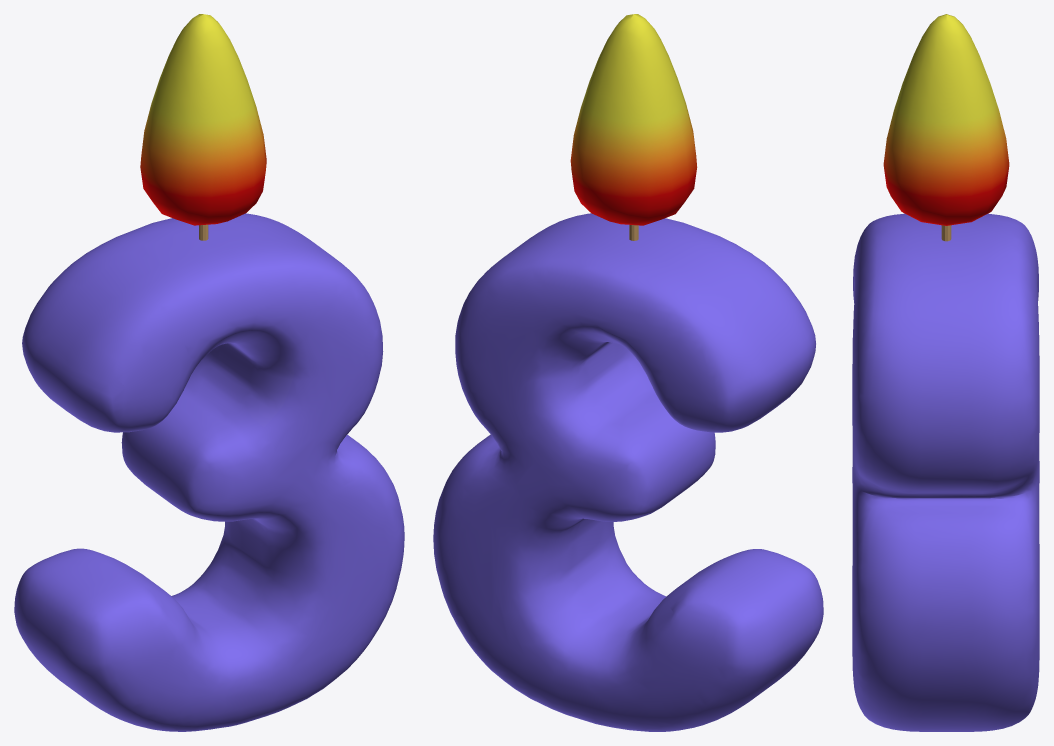
Rendered from candle_3.glb.
The picture shows the model from 3 angles, left to right: view 1: azimuth 30°, elevation 25°; view 2: azimuth 150°, elevation 25°; view 3: azimuth 270°, elevation 25°; orthographic projection.
Visible parts, largest first — view 1: candle_3, fire.003; view 2: candle_3, fire.003; view 3: candle_3, fire.003.
Part boxes in pixels (box(x1,y1,x2,y2)): candle_3: box(14, 213, 404, 731); fire.003: box(140, 14, 266, 225); candle_3: box(433, 213, 823, 731); fire.003: box(570, 14, 697, 225); candle_3: box(852, 213, 1039, 731); fire.003: box(883, 14, 1009, 225).
Size of the model in its own units: 0.4855 by 0.9494 by 0.2334.
Materials: 1 (1 with a texture image).
